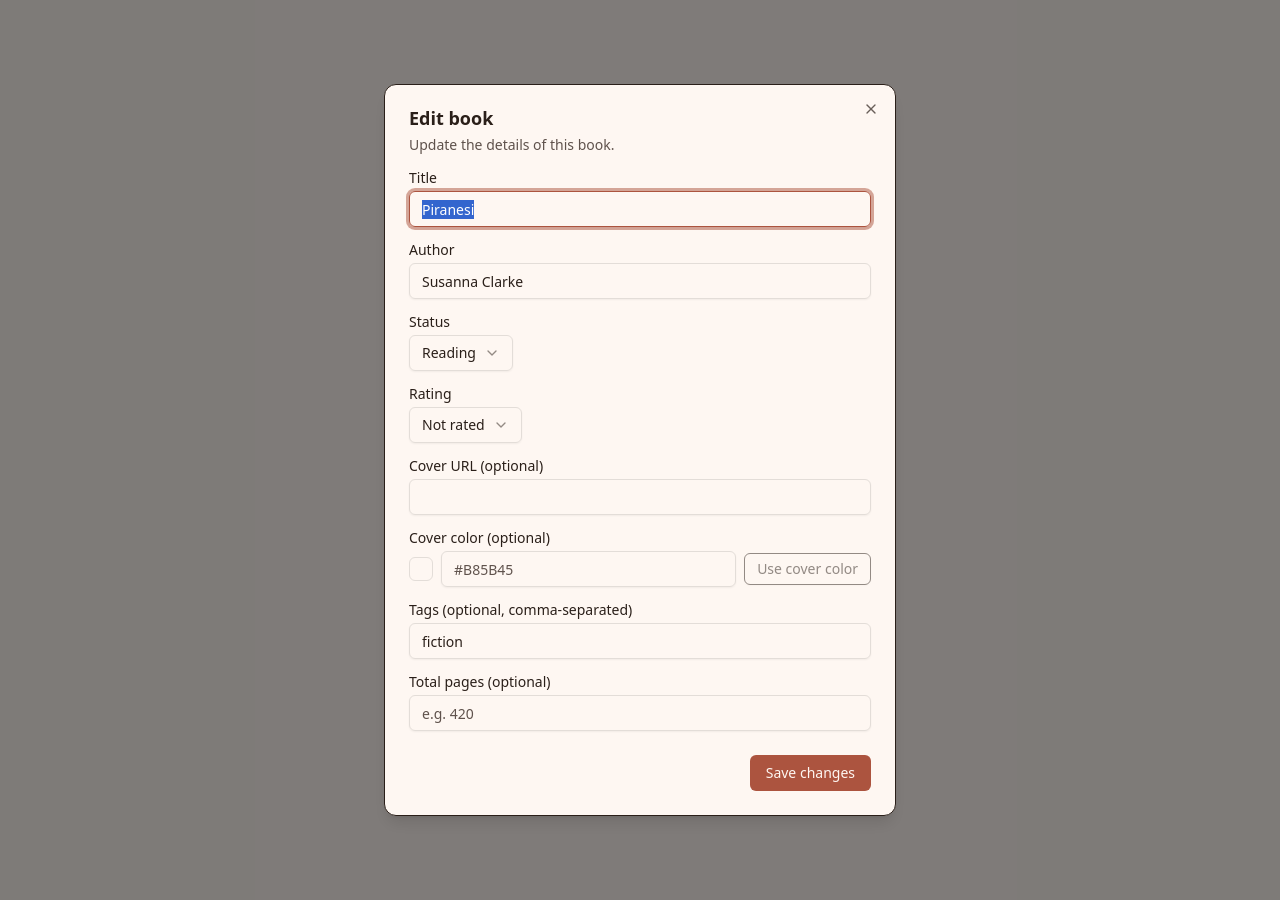
it: EditBookDialog › shows validation errors and keeps dialog open on bad input
The width and height of the screenshot is (1280, 900).
Check: the dialog is shown, box [384,84,896,816]
Type "not-a-url" into the field labelled "Cover URL (optional)".
click(640, 497); type("not-a-url")  # box [409,479,871,515]
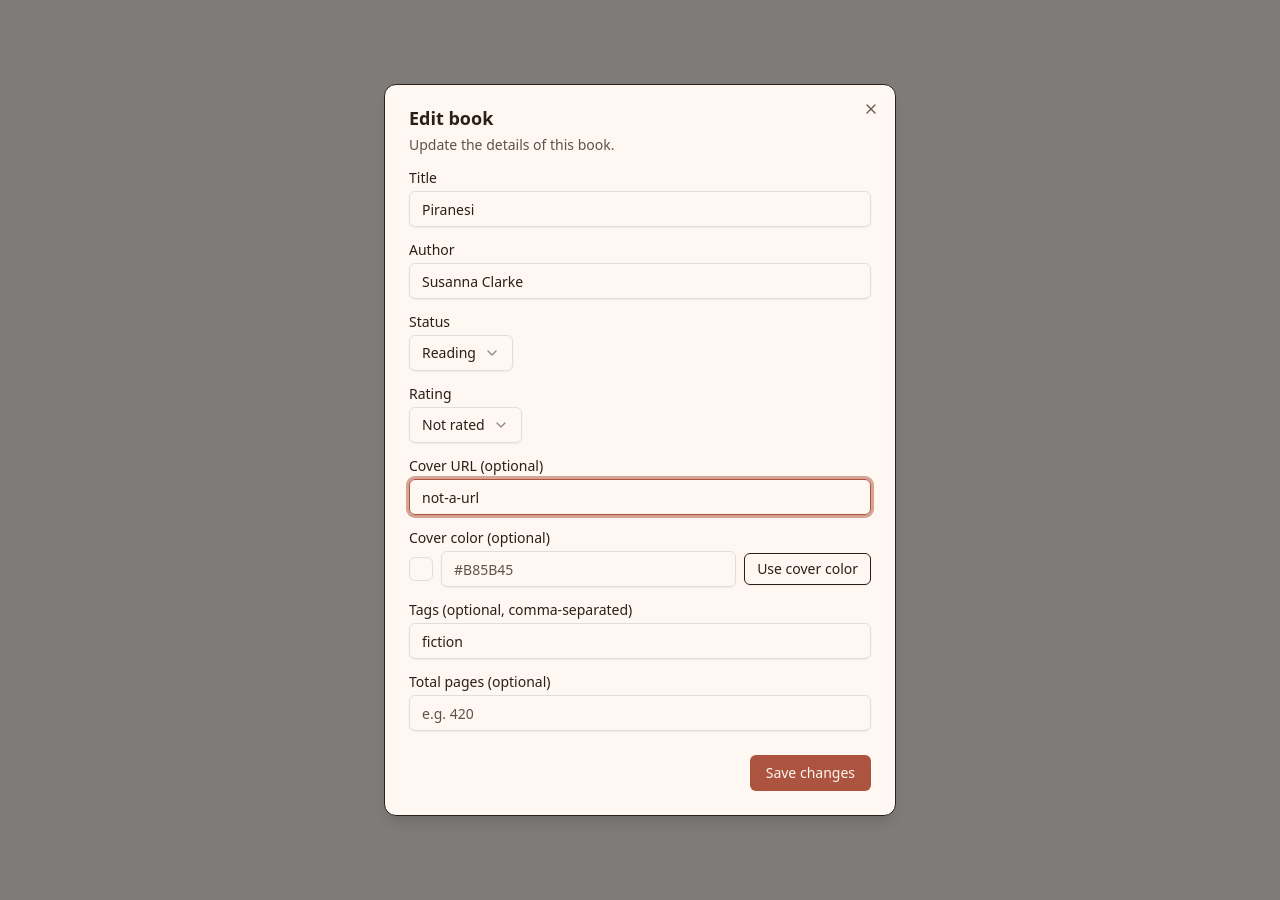
Click the button "Save changes".
click(810, 773)  # box [750,755,871,791]
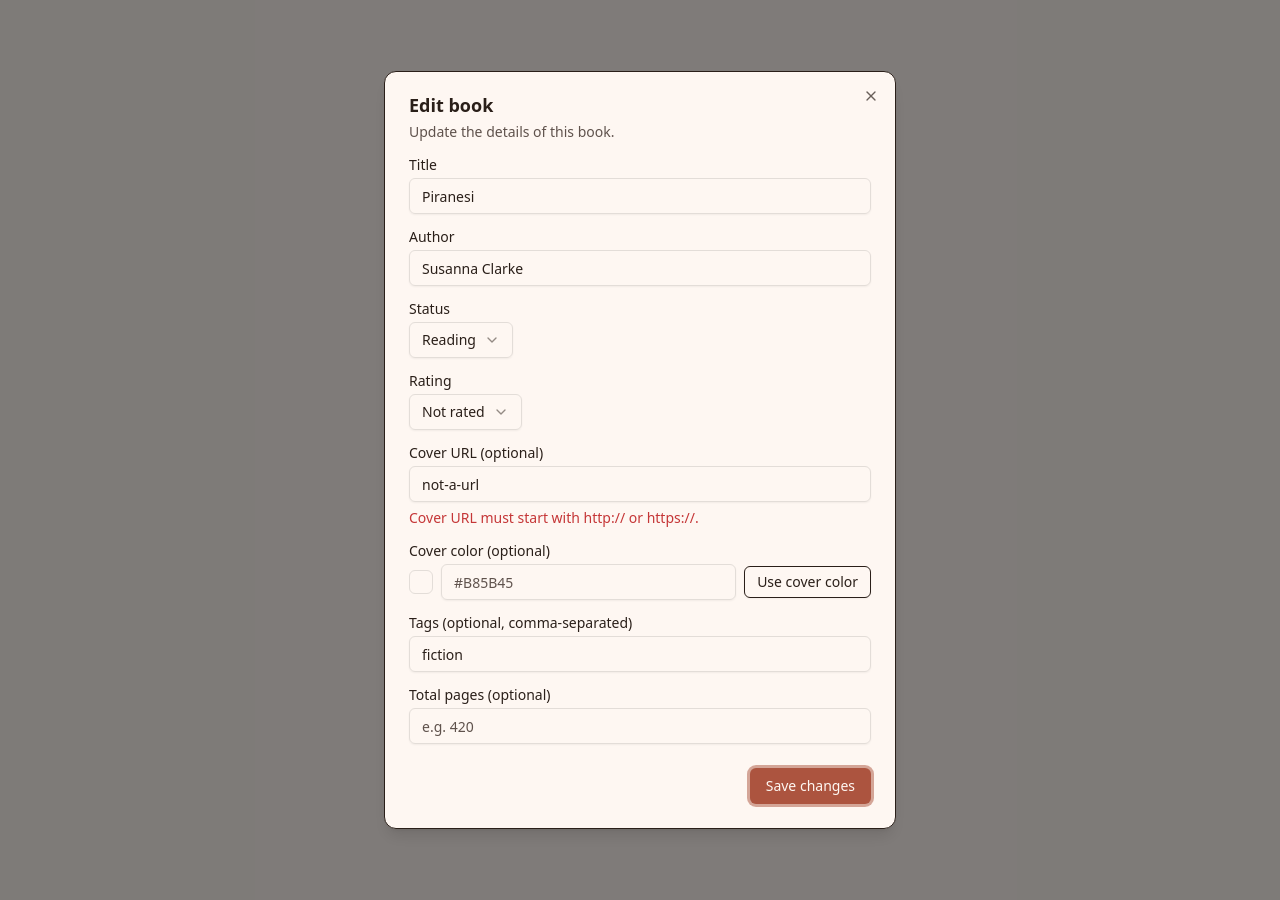
Check: the dialog is shown, box [384,71,896,829]
Check: the text "Cover URL must start with http:// or https://." is shown, box [409,508,699,527]
